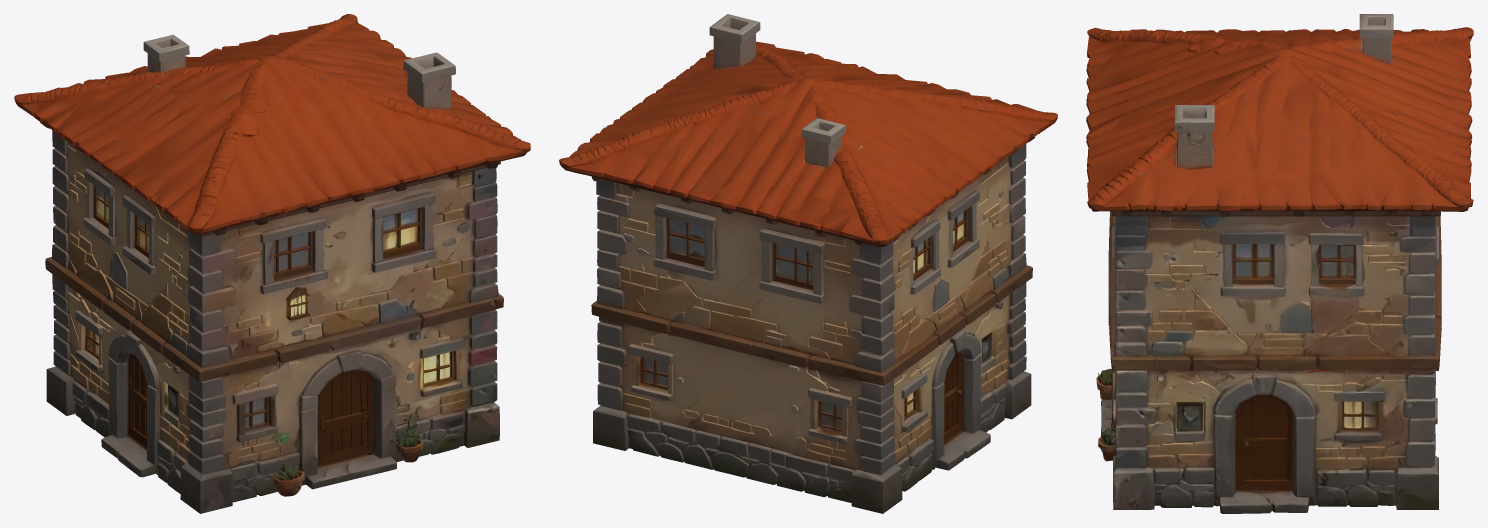
The picture shows the model from 3 angles, left to right: view 1: azimuth 30°, elevation 25°; view 2: azimuth 150°, elevation 25°; view 3: azimuth 270°, elevation 25°; orthographic projection. The views are drawn at different scales.
Visible parts, largest first — view 1: model; view 2: model; view 3: model.
Boxes of the visible parts, x1=… form: model: x1=14, y1=14, x2=530, y2=513; model: x1=559, y1=14, x2=1057, y2=513; model: x1=1086, y1=14, x2=1473, y2=513.
Bounding box in the file's own units: 1.88 × 1.89 × 1.74.
1 material, 1 textured.
